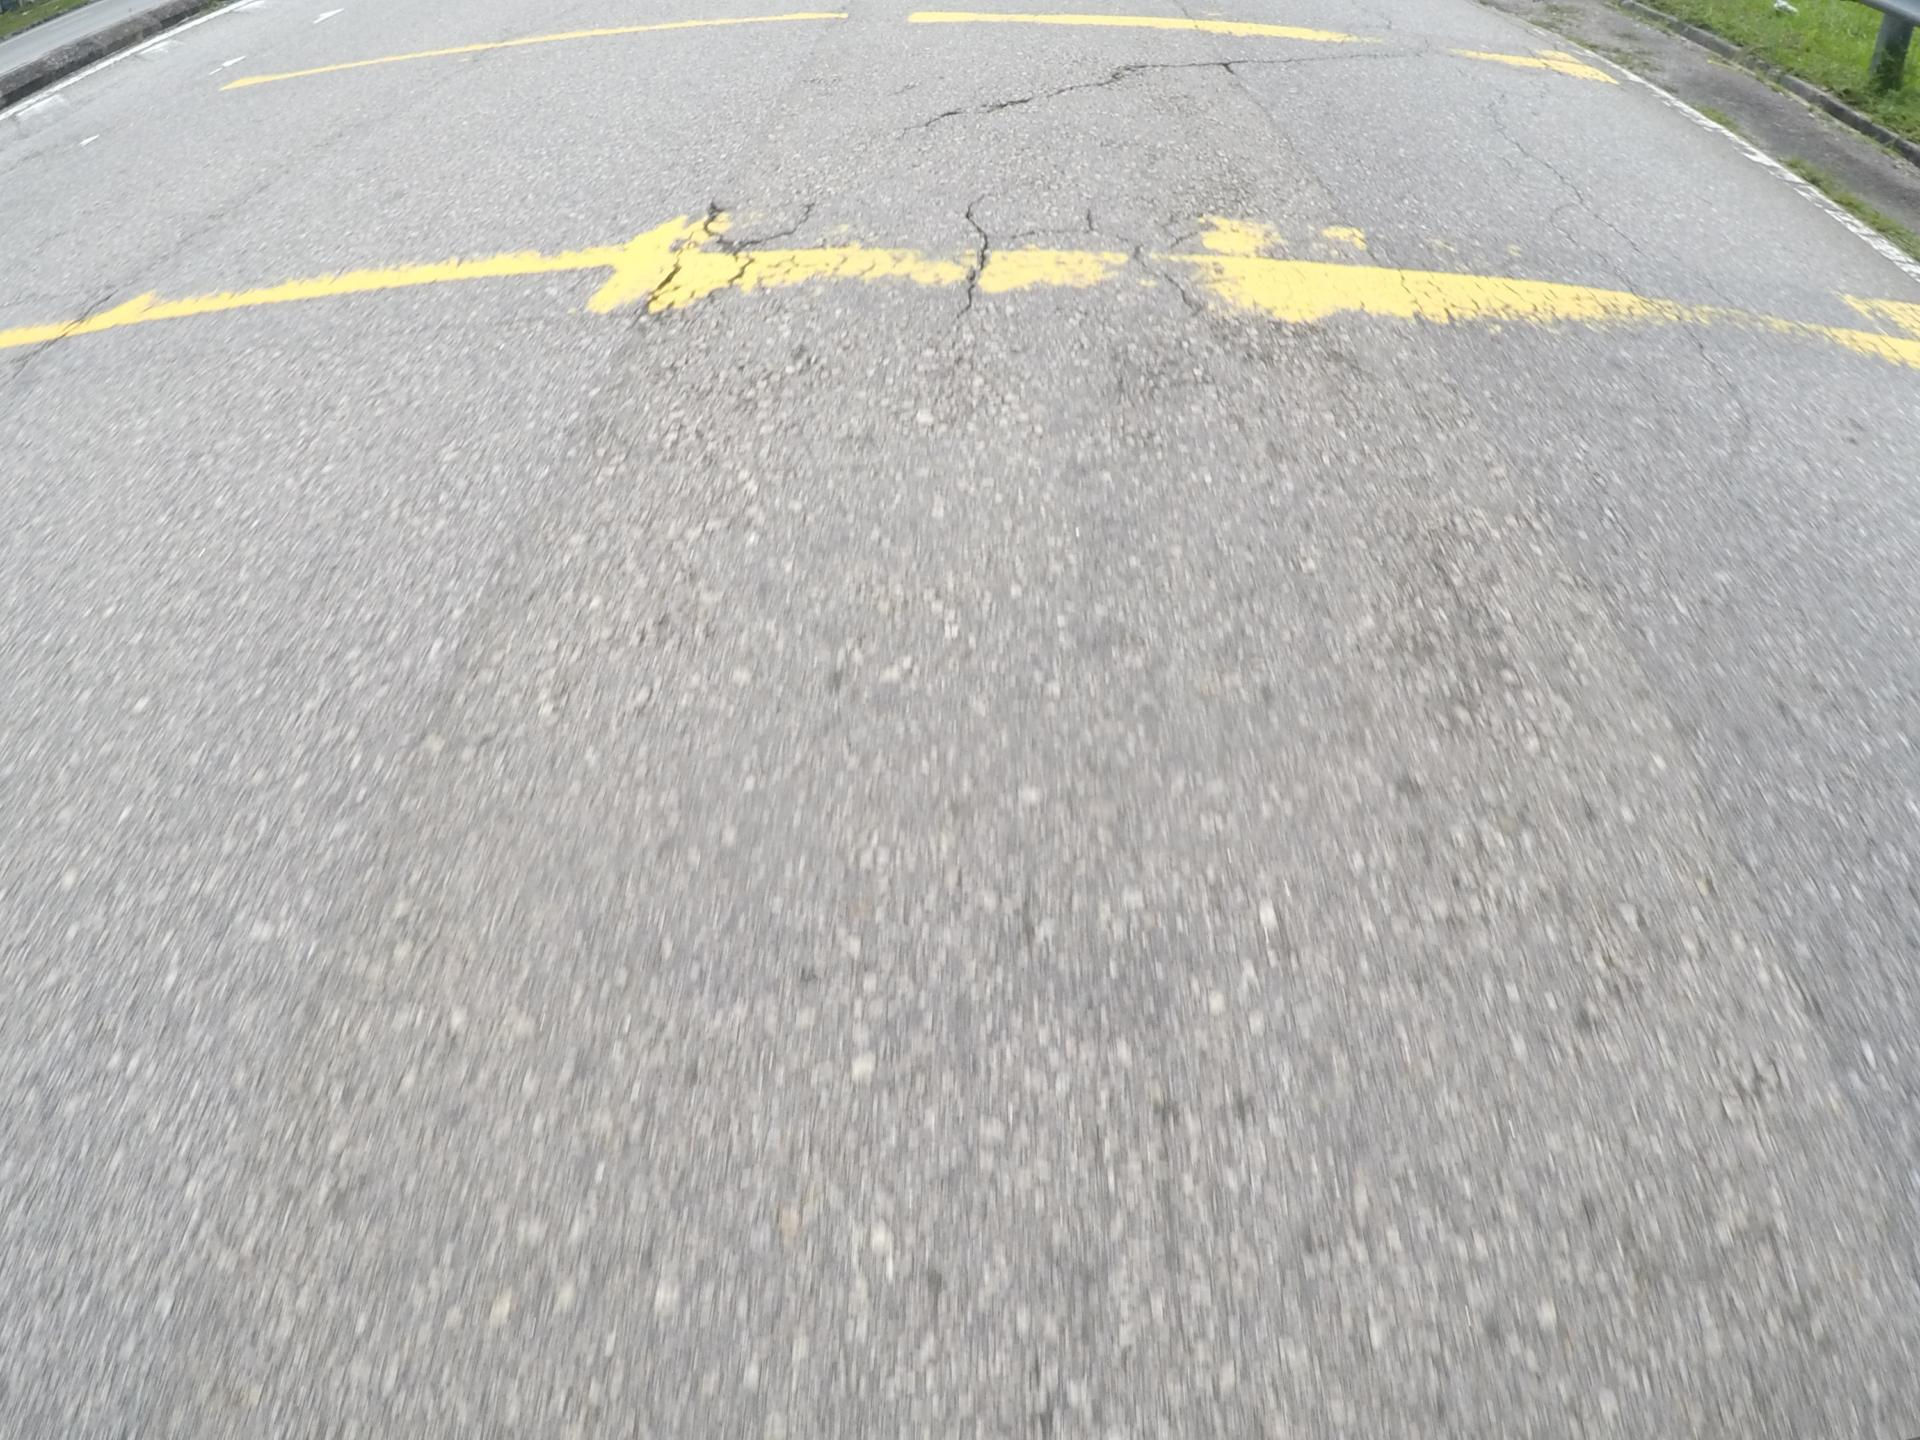transverse: (605, 135, 1317, 408)
